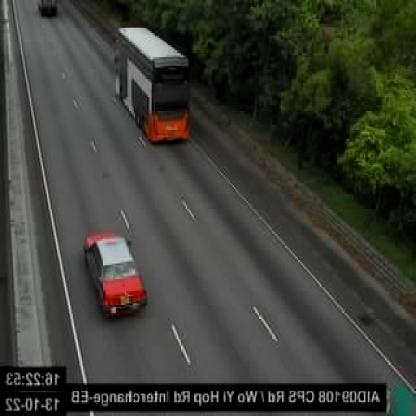Bus: (116, 27, 188, 142)
Car: (82, 226, 150, 318)
Truck: (36, 0, 60, 18)
